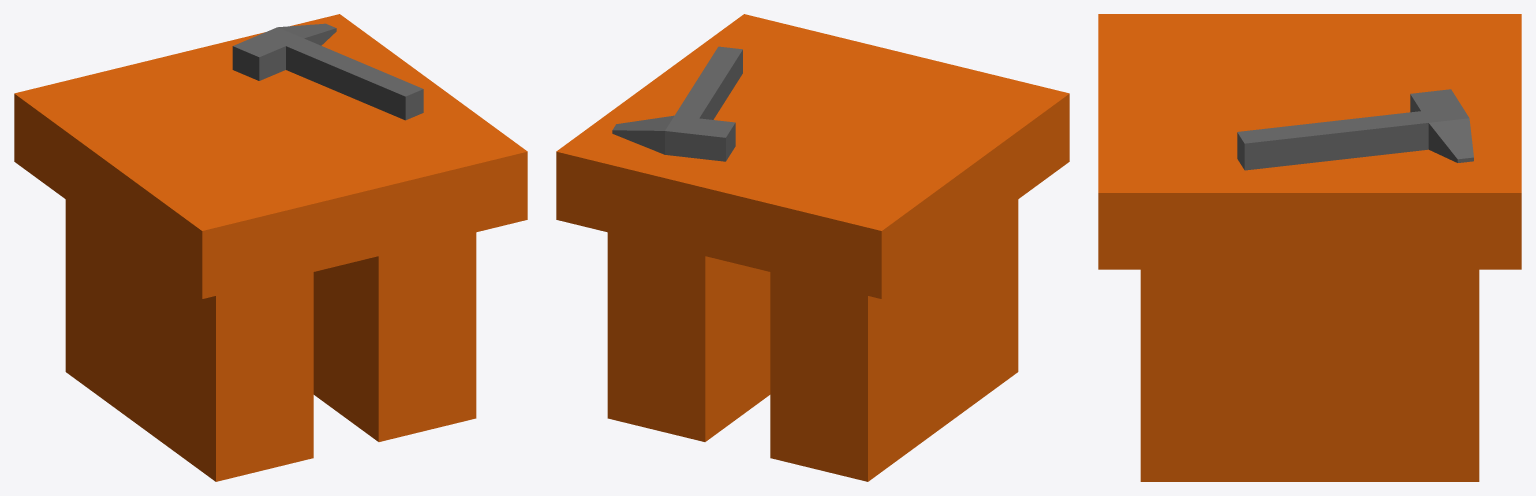
File: Workbench_Hammer.fbx
The picture shows the model from 3 angles, left to right: view 1: azimuth 30°, elevation 25°; view 2: azimuth 150°, elevation 25°; view 3: azimuth 270°, elevation 25°; orthographic projection. The views are drawn at different scales.
Visible parts, largest first — view 1: Box001, Box002; view 2: Box001, Box002; view 3: Box001, Box002.
Boxes of the visible parts, left/top/right/bottom form: Box001: left=14, top=14, right=527, bottom=481; Box002: left=232, top=23, right=423, bottom=120; Box001: left=556, top=14, right=1069, bottom=481; Box002: left=612, top=46, right=742, bottom=161; Box001: left=1098, top=14, right=1521, bottom=481; Box002: left=1237, top=89, right=1473, bottom=170.
Size of the model in its own units: 39.37 by 34.34 by 39.37.
